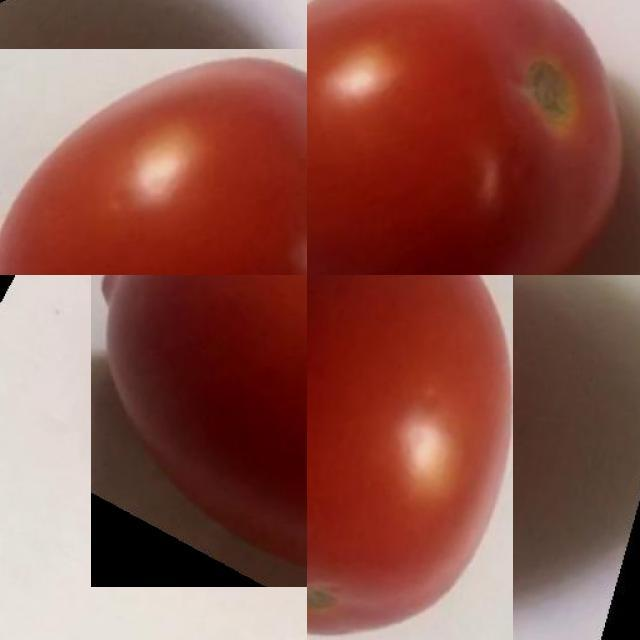Fresh Tomato: (307, 0, 640, 275), (307, 275, 513, 640), (0, 48, 307, 275), (91, 275, 307, 587)
